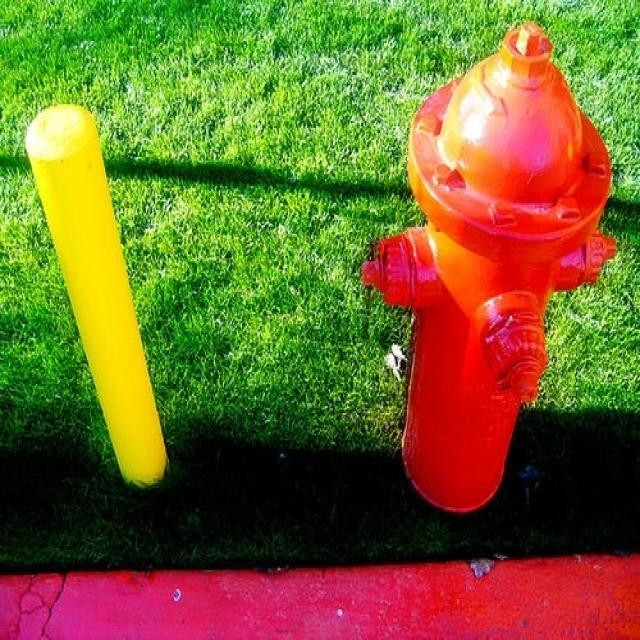fire_hydrant: (343, 28, 590, 515)
